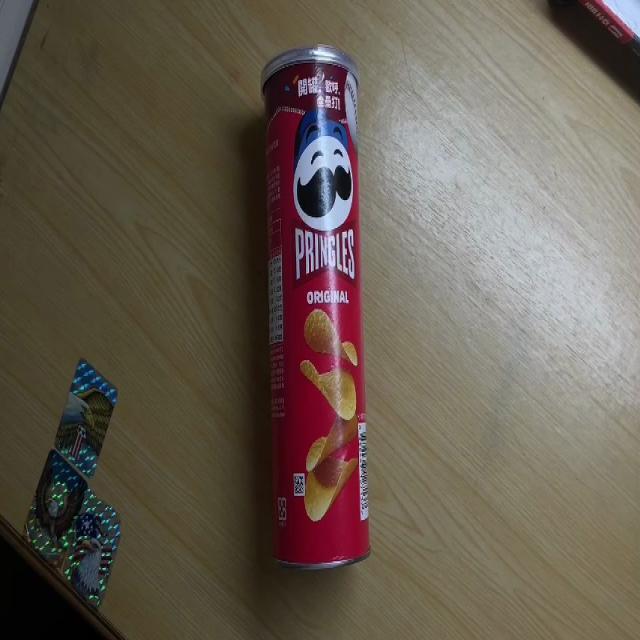Pringles: (259, 46, 372, 576)
